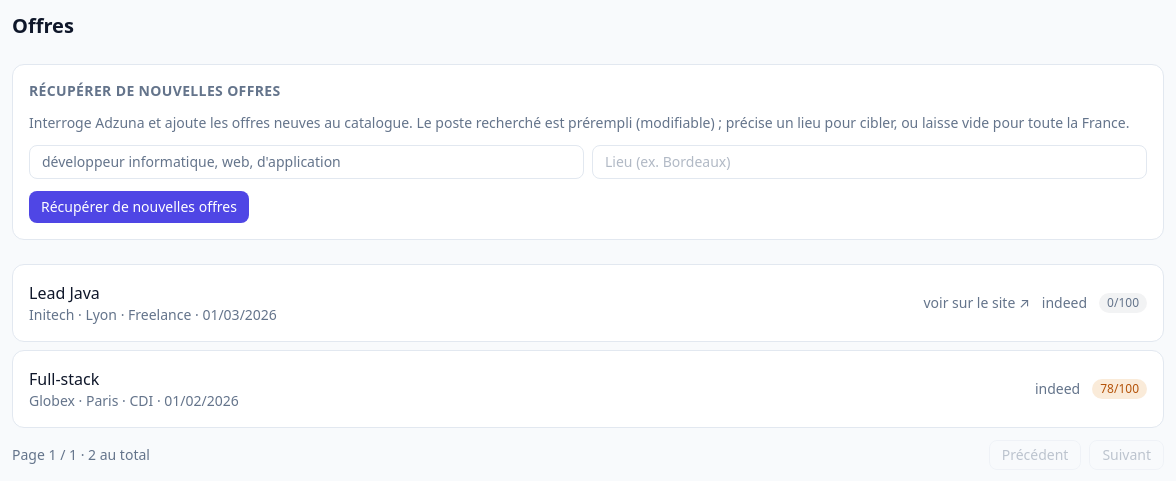
Scenario: OffersPage › envoie le poste recherché prérempli quand le champ n'est pas modifié
Expected: the button "Lead Java" is shown, [29, 281, 908, 305]
Click the button "Récupérer de nouvelles offres".
click(139, 207)  # box [29, 191, 249, 223]
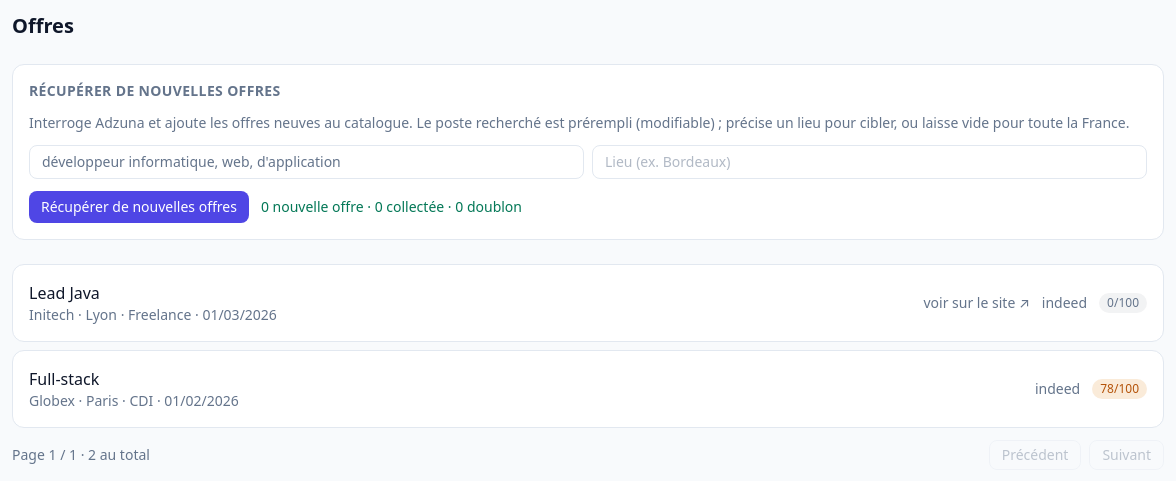
Expected: the text "0 nouvelle offre · 0 collectée · 0 doublon" is shown, [261, 197, 522, 217]
